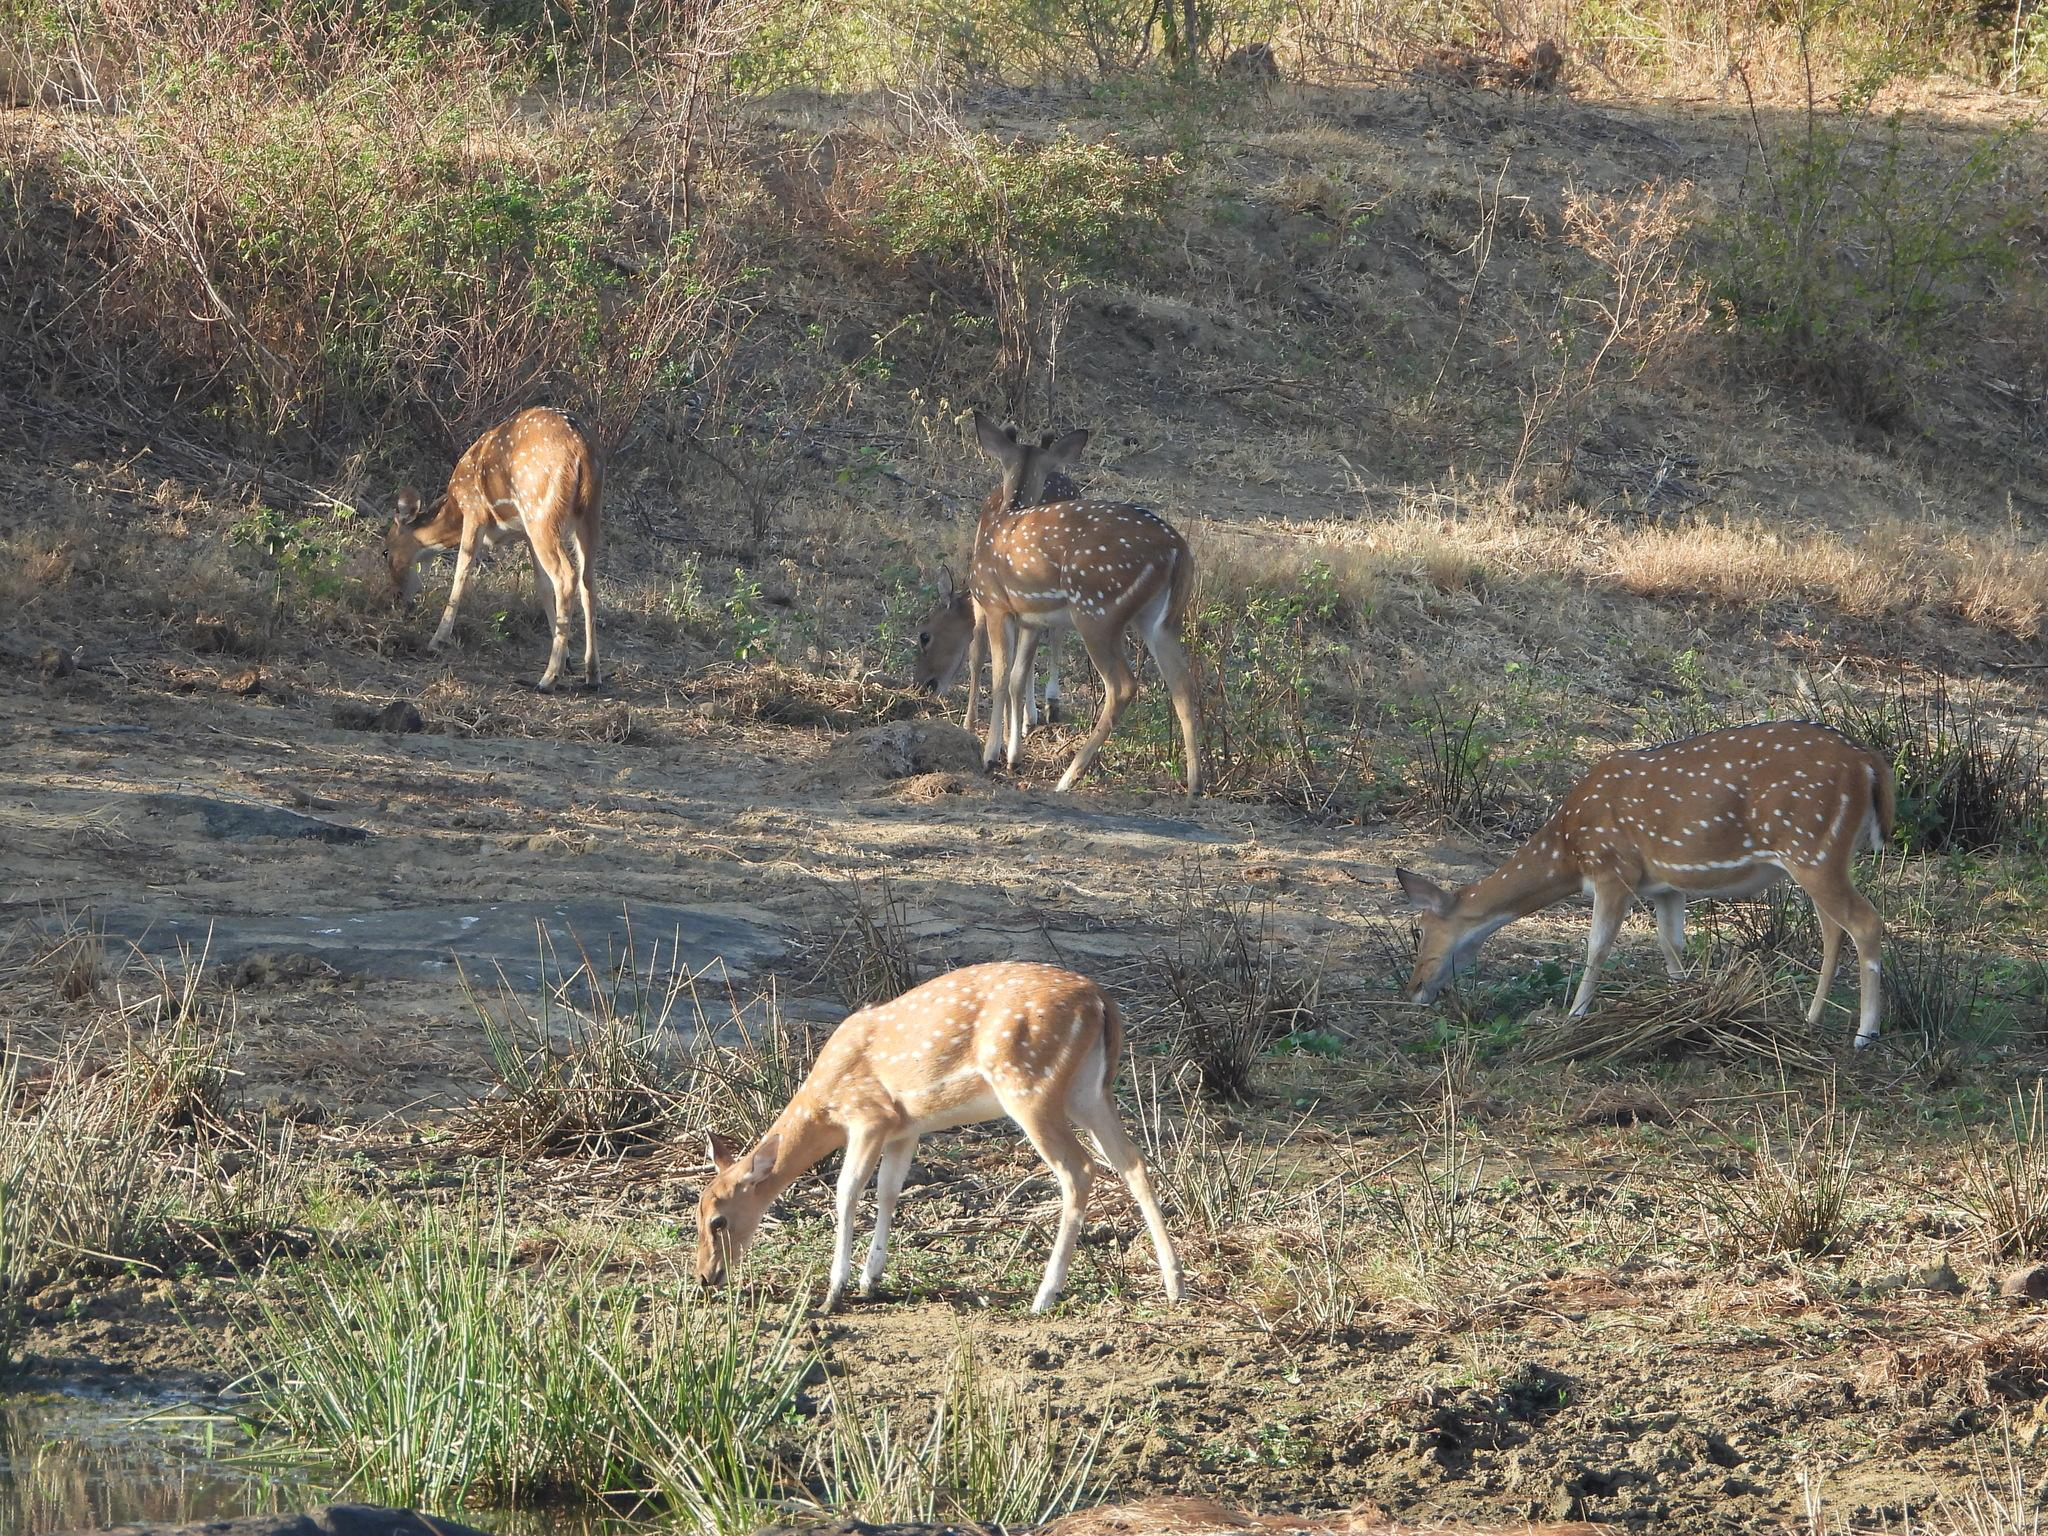Deer: (697, 962, 1180, 1313), (1397, 721, 1895, 1047), (968, 411, 1200, 792), (389, 407, 603, 692)
